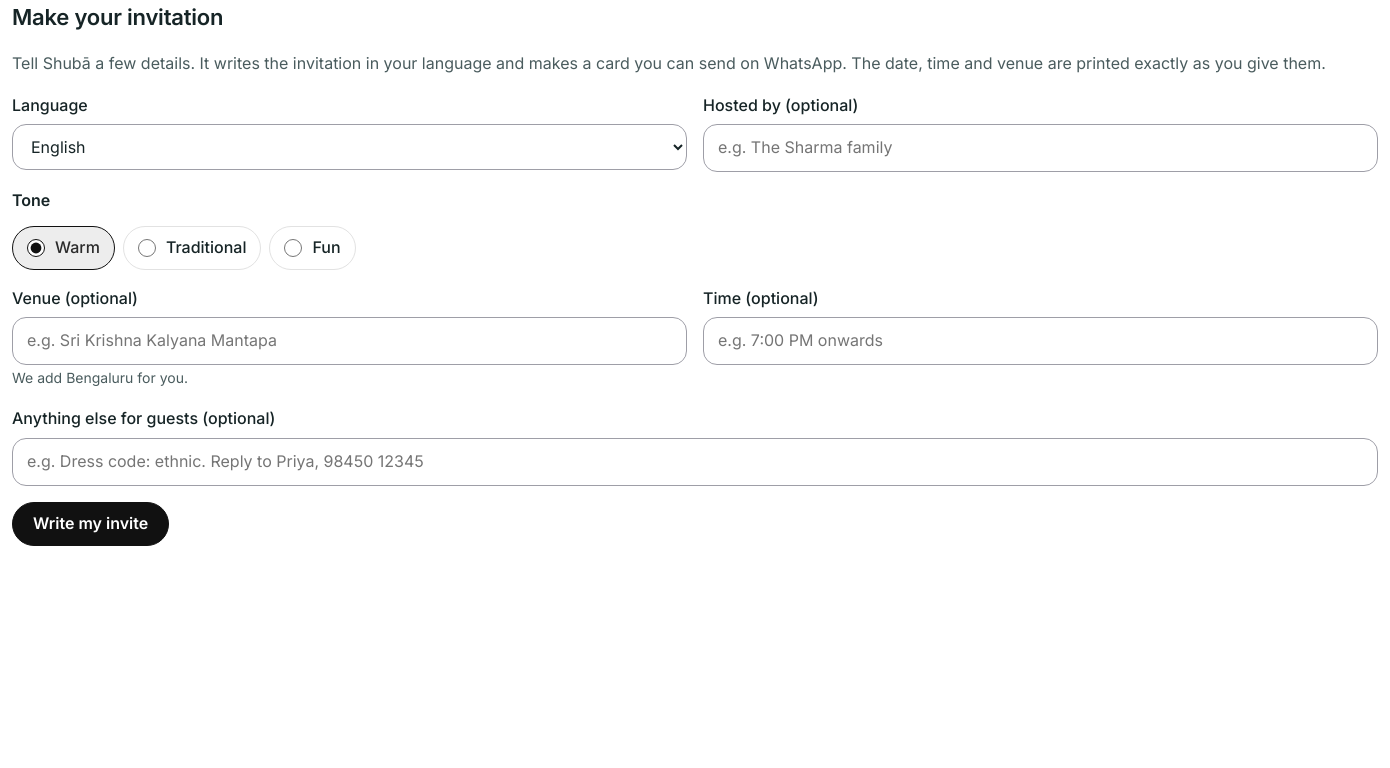
Test: InviteMaker editing › checks the details before asking Claude
The image size is (1390, 768).
In the field labelled "Venue (optional)": (350, 341) x1=12 y1=317 x2=687 y2=365, type "Hall <b>"
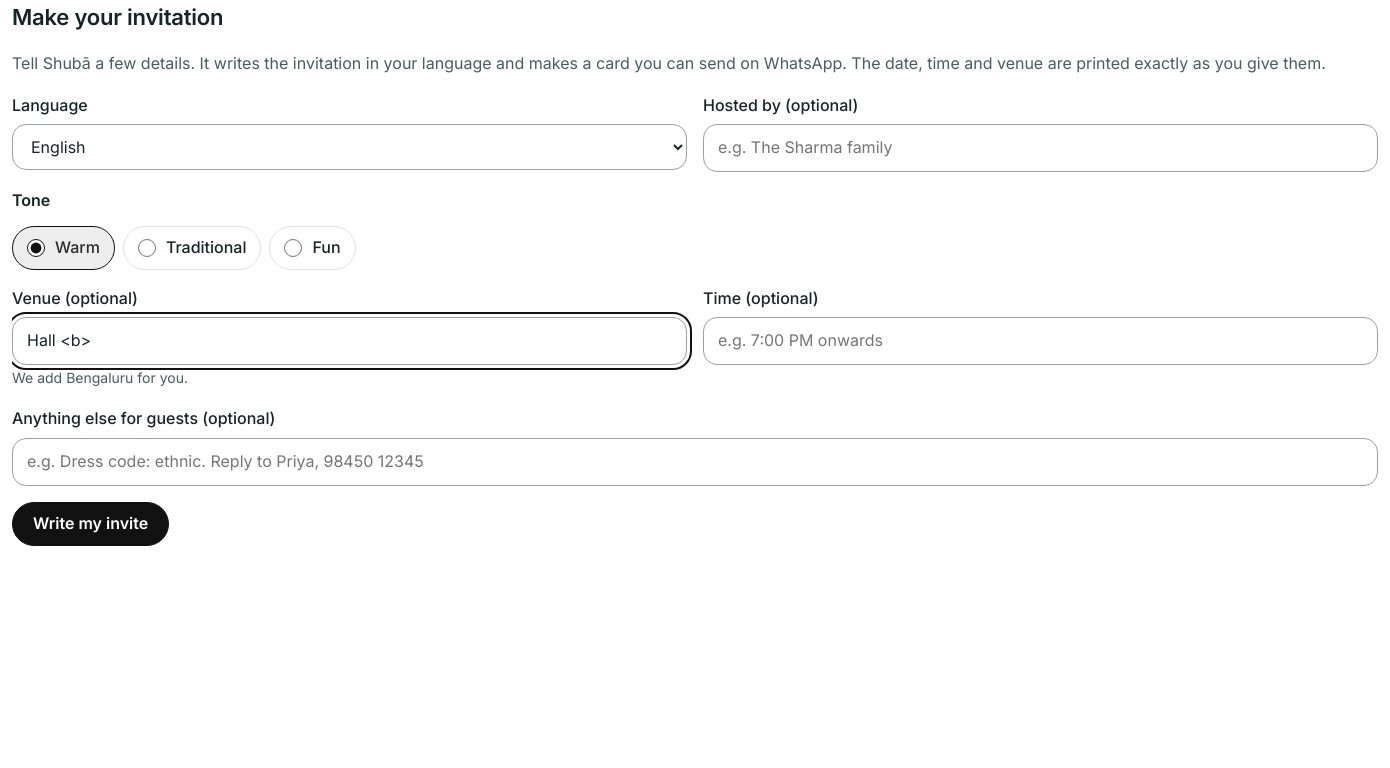
Click the button "Write my invite": (91, 524) x1=12 y1=502 x2=169 y2=546
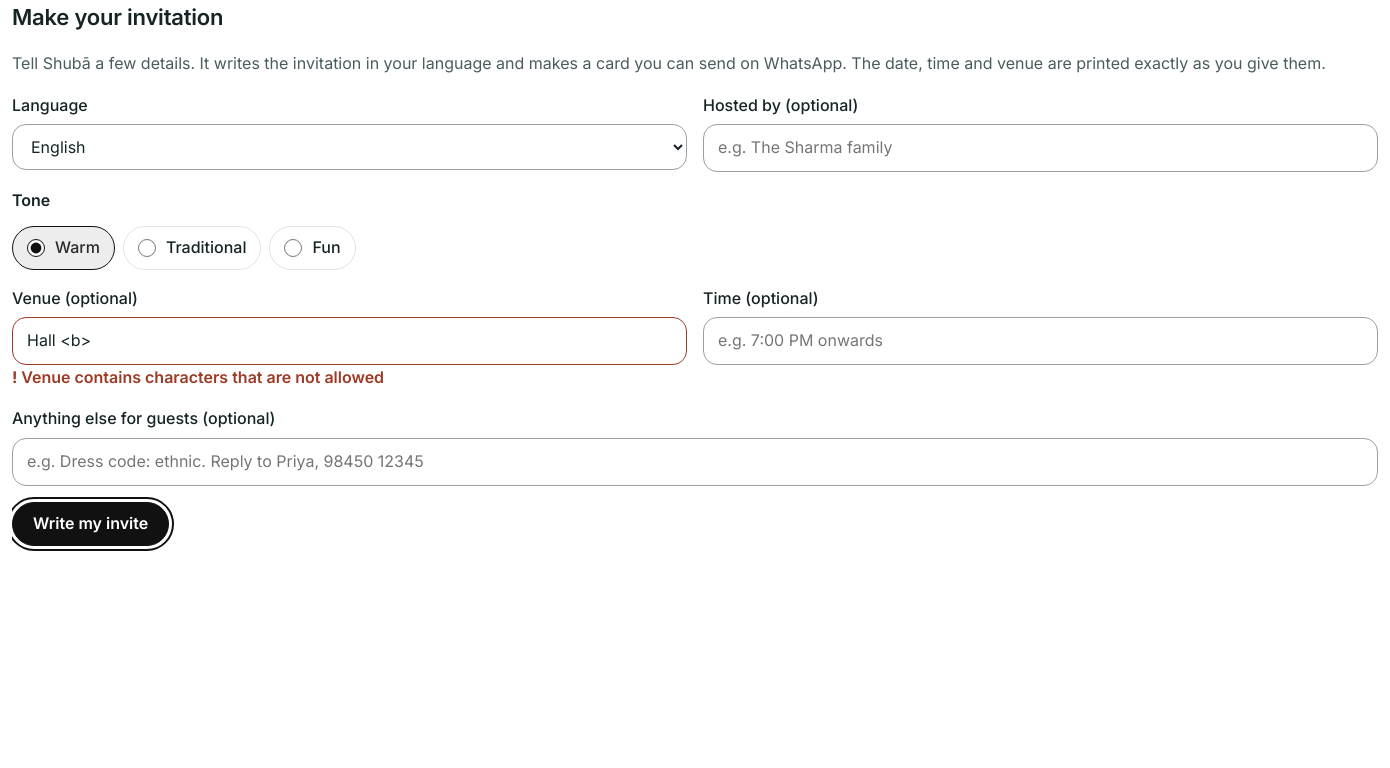
Expected: the text "Venue contains characters that are not allowed" is shown, x1=12 y1=367 x2=384 y2=387
